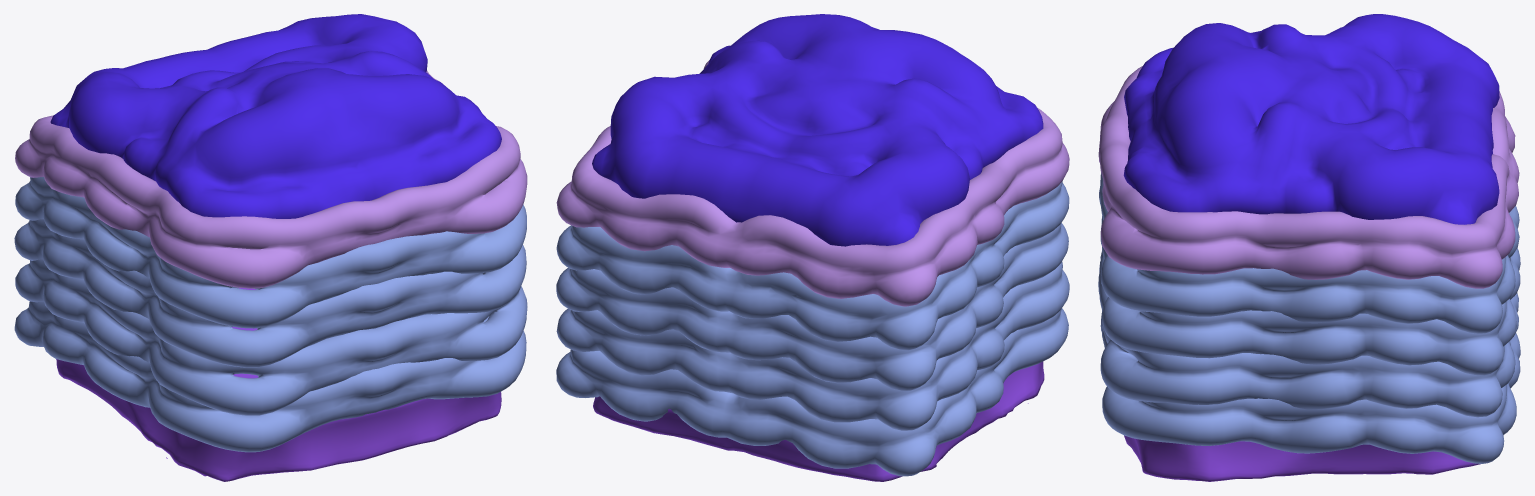
File: room.glb
3 views of the same model, side by side, from view 1: azimuth 30°, elevation 25°; view 2: azimuth 150°, elevation 25°; view 3: azimuth 270°, elevation 25° (orthographic). The views are drawn at different scales.
Visible parts, largest first — view 1: room; view 2: room; view 3: room.
Boxes of the visible parts, x1,y1,x2,y2 form: room: (14, 14, 527, 481); room: (556, 14, 1069, 481); room: (1098, 14, 1520, 481).
Size of the model in its own units: 7.9 by 6.72 by 7.3.
